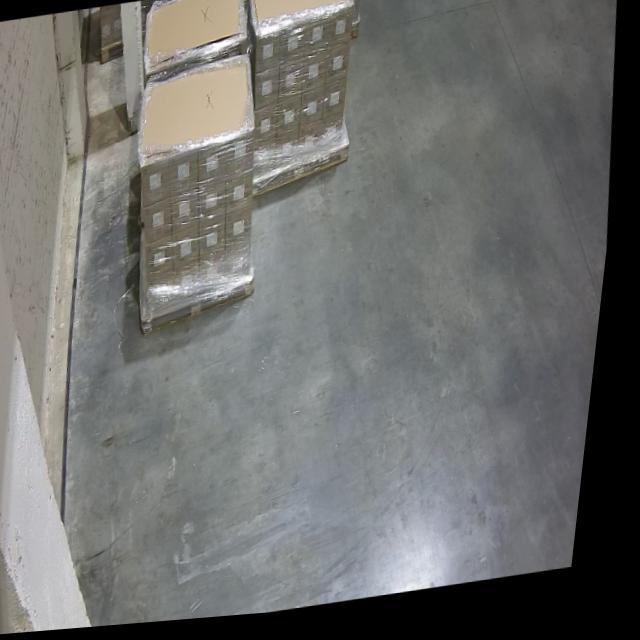pallet: (143, 58, 261, 174), (144, 0, 246, 83), (249, 0, 356, 41)
